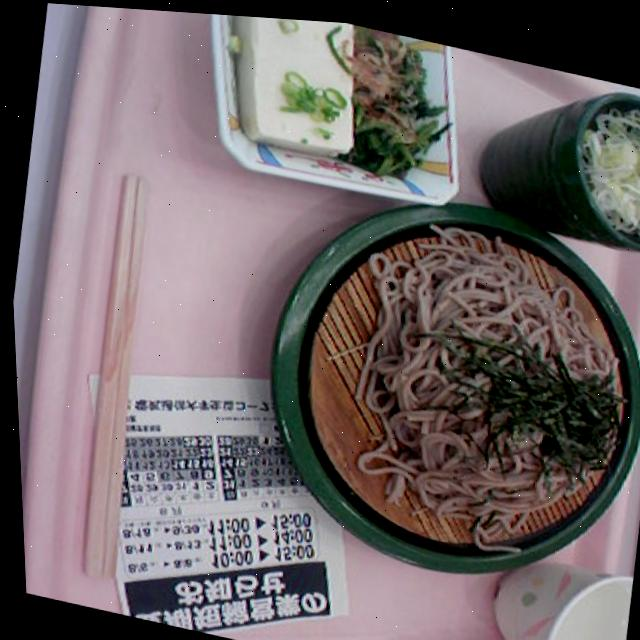面条主食: (314, 200, 640, 572)
